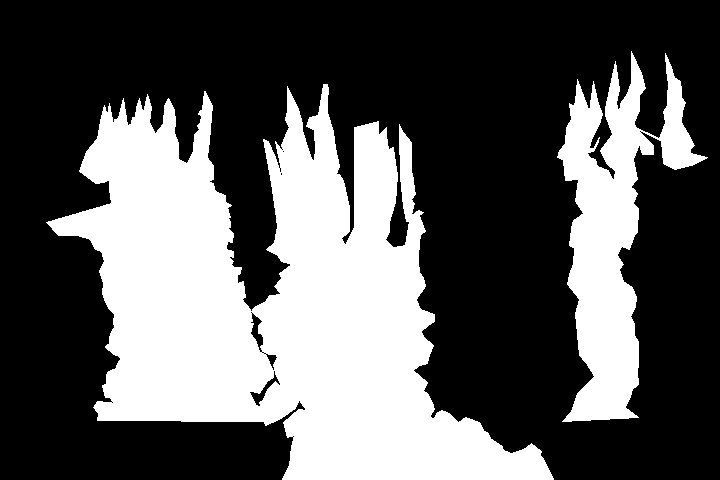Fire: (279, 86, 412, 431), (93, 87, 212, 341), (564, 67, 631, 220)
